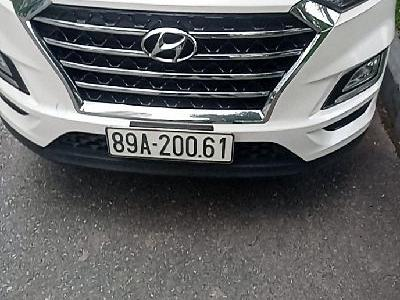car: (106, 126, 235, 166)
